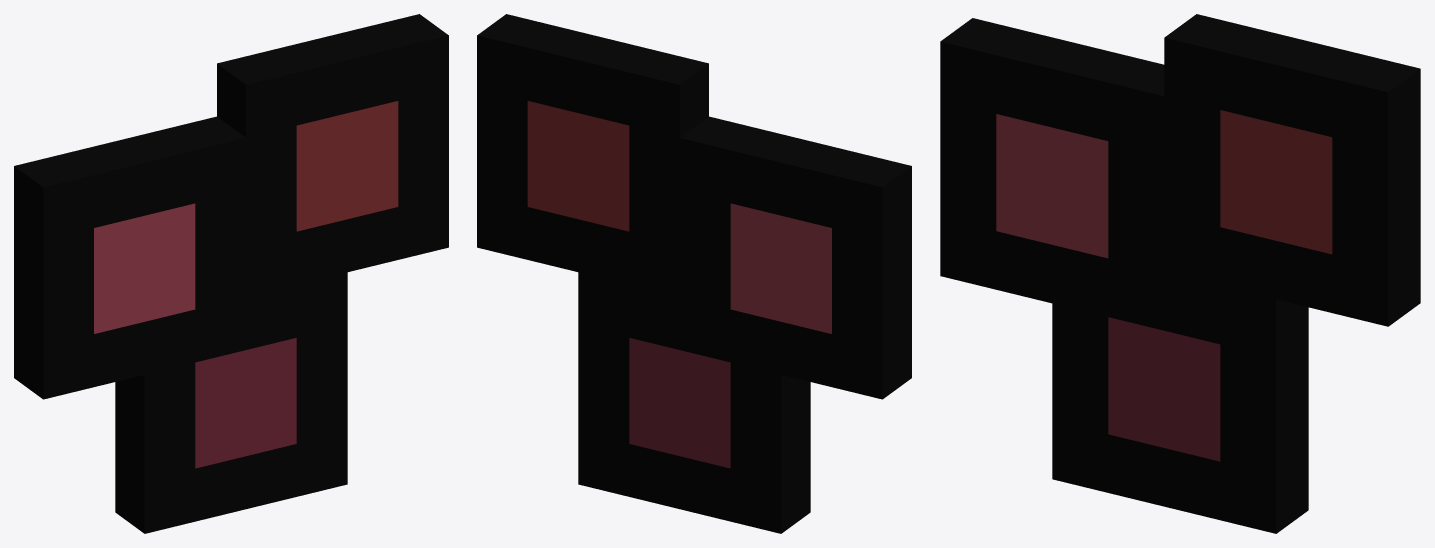
The model's file is Beetroot Seeds.glb.
3 views of the same model, side by side, from view 1: azimuth 30°, elevation 25°; view 2: azimuth 150°, elevation 25°; view 3: azimuth 330°, elevation 25° (orthographic). The views are drawn at different scales.
Parts seen in each view (by area): view 1: generated(Clone); view 2: generated(Clone); view 3: generated(Clone).
Boxes of the visible parts, left/top/right/bottom form: generated(Clone): left=14, top=14, right=448, bottom=533; generated(Clone): left=477, top=14, right=911, bottom=533; generated(Clone): left=940, top=14, right=1420, bottom=533.
Size of the model in its own units: 8 by 8 by 1.
1 material, 1 textured.
